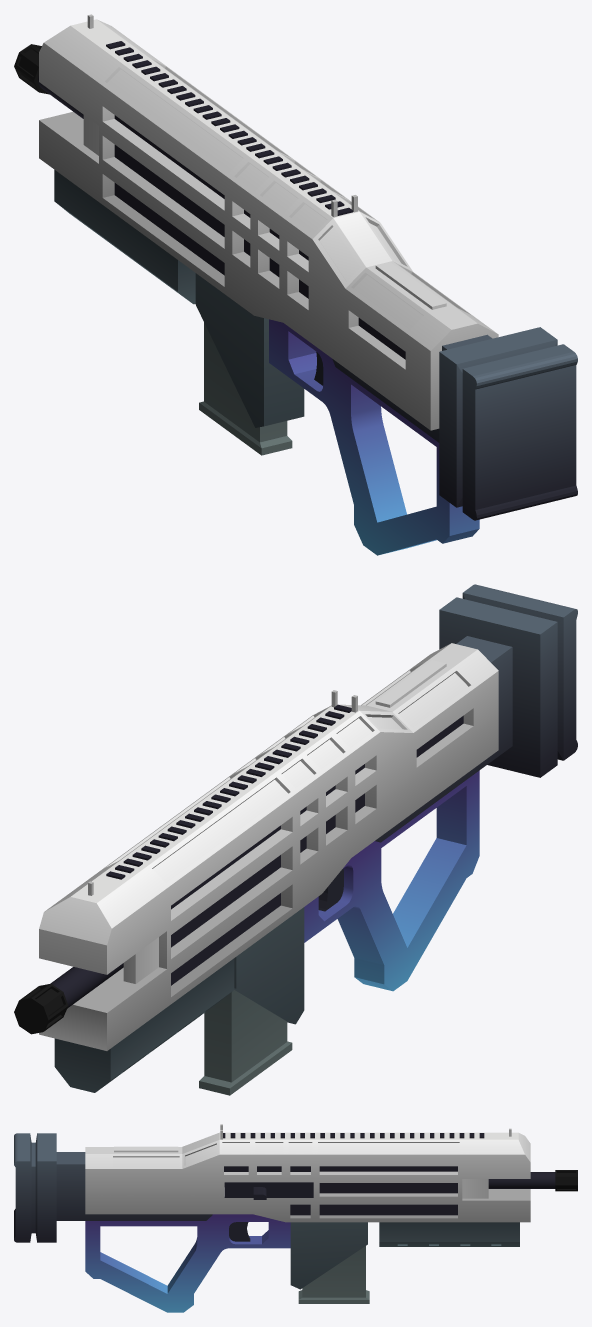
File: scifirifletexture.fbx
The picture shows the model from 3 angles, top to bottom: view 1: azimuth 30°, elevation 25°; view 2: azimuth 150°, elevation 25°; view 3: azimuth 270°, elevation 25°; orthographic projection. The views are drawn at different scales.
Parts seen in each view (by area): view 1: Body, Stock, Handle, Feeder, Grip, Magazine, Rail, Muzzle; view 2: Body, Stock, Handle, Magazine, Grip, Feeder, Rail, Muzzle, Cylinder, MuzzleGuard; view 3: Body, Handle, Stock, Feeder, Grip, Magazine, Slide, Cylinder, Rail, MuzzleGuard, Muzzle, Trigger.
Part boxes in pixels (x1=…): Body: x1=39, y1=19, x2=498, y2=430; Stock: x1=332, y1=327, x2=577, y2=520; Handle: x1=269, y1=319, x2=479, y2=555; Feeder: x1=195, y1=273, x2=304, y2=427; Grip: x1=54, y1=170, x2=195, y2=304; Magazine: x1=199, y1=322, x2=292, y2=455; Rail: x1=106, y1=41, x2=352, y2=215; Muzzle: x1=14, y1=44, x2=49, y2=94; Body: x1=39, y1=643, x2=498, y2=1050; Stock: x1=375, y1=584, x2=577, y2=842; Handle: x1=304, y1=770, x2=479, y2=991; Magazine: x1=199, y1=990, x2=292, y2=1095; Grip: x1=54, y1=958, x2=234, y2=1092; Feeder: x1=234, y1=907, x2=304, y2=1024; Rail: x1=106, y1=704, x2=351, y2=879; Muzzle: x1=14, y1=983, x2=68, y2=1034; Cylinder: x1=50, y1=963, x2=123, y2=1008; MuzzleGuard: x1=123, y1=937, x2=158, y2=983; Body: x1=85, y1=1132, x2=530, y2=1222; Handle: x1=85, y1=1214, x2=290, y2=1312; Stock: x1=14, y1=1133, x2=212, y2=1242; Feeder: x1=290, y1=1222, x2=367, y2=1289; Grip: x1=379, y1=1222, x2=519, y2=1246; Magazine: x1=298, y1=1246, x2=369, y2=1303; Slide: x1=224, y1=1182, x2=313, y2=1199; Cylinder: x1=488, y1=1172, x2=555, y2=1188; Rail: x1=223, y1=1133, x2=484, y2=1138; MuzzleGuard: x1=462, y1=1179, x2=488, y2=1198; Muzzle: x1=555, y1=1170, x2=577, y2=1191; Trigger: x1=229, y1=1222, x2=250, y2=1241.
Size of the model in its own units: 151 by 406 by 1146.
